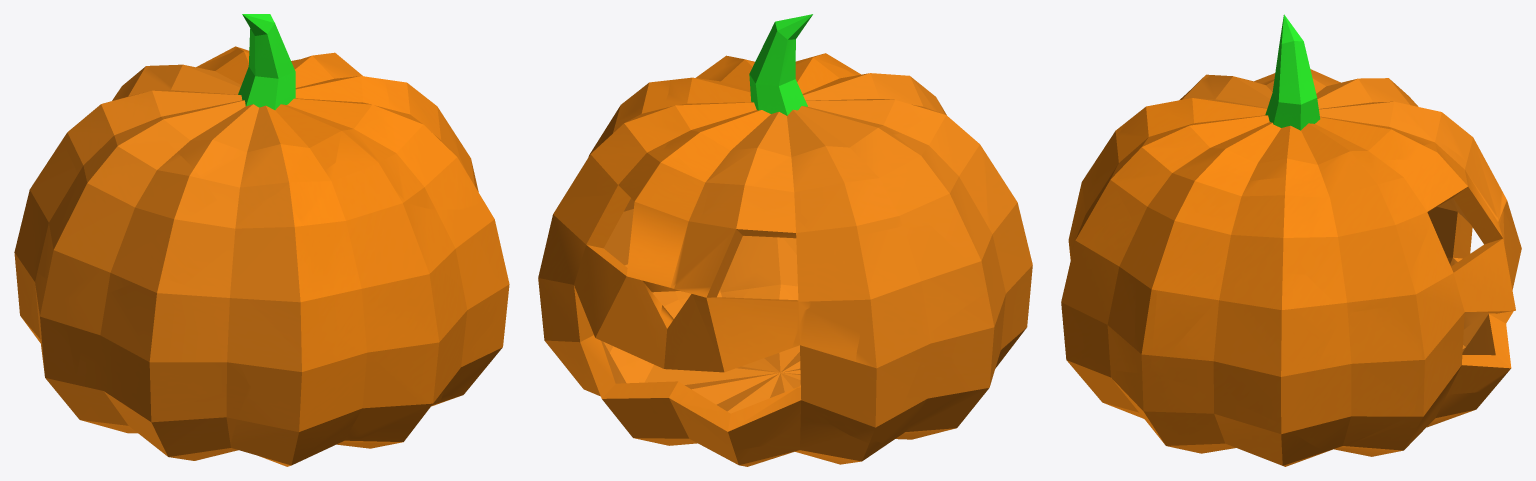
File: Abobora_01_Root.fbx
3 views of the same model, side by side, from view 1: azimuth 30°, elevation 25°; view 2: azimuth 150°, elevation 25°; view 3: azimuth 270°, elevation 25° (orthographic). The views are drawn at different scales.
Parts seen in each view (by area): view 1: Abobora_01_frag_020, Abobora_01_frag_014, Abobora_01_frag_036, Abobora_01_frag_041, Abobora_01_frag_030, Abobora_01_frag_009, Abobora_01_frag_056, Abobora_01_frag_049, Abobora_01_frag_016, Abobora_01_frag_037, Abobora_01_frag_054, Abobora_01_frag_055 (+13 smaller); view 2: Abobora_01_frag_026, Abobora_01_frag_054, Abobora_01_frag_006, Abobora_01_frag_050, Abobora_01_frag_028, Abobora_01_frag_025, Abobora_01_frag_041, Abobora_01_frag_031, Abobora_01_frag_042, Abobora_01_frag_005, Abobora_01_frag_009, Abobora_01_frag_045 (+19 smaller); view 3: Abobora_01_frag_033, Abobora_01_frag_048, Abobora_01_frag_043, Abobora_01_frag_016, Abobora_01_frag_056, Abobora_01_frag_015, Abobora_01_frag_031, Abobora_01_frag_028, Abobora_01_frag_040, Abobora_01_frag_023, Abobora_01_frag_034, Abobora_01_frag_009 (+17 smaller).
Boxes of the visible parts, x1,y1,x2,y2 form: Abobora_01_frag_020: (212,193,347,394); Abobora_01_frag_014: (63,277,249,411); Abobora_01_frag_036: (282,291,455,427); Abobora_01_frag_041: (49,136,217,294); Abobora_01_frag_030: (279,162,413,323); Abobora_01_frag_009: (164,105,335,213); Abobora_01_frag_056: (406,203,506,359); Abobora_01_frag_049: (76,351,241,460); Abobora_01_frag_016: (340,112,483,209); Abobora_01_frag_037: (61,201,239,298); Abobora_01_frag_054: (62,67,195,187); Abobora_01_frag_055: (223,386,363,466); Abobora_01_frag_026: (810,223,987,333); Abobora_01_frag_054: (748,123,927,238); Abobora_01_frag_006: (609,151,709,336); Abobora_01_frag_050: (636,287,803,372); Abobora_01_frag_028: (662,91,833,185); Abobora_01_frag_025: (661,180,818,322); Abobora_01_frag_041: (892,112,992,291); Abobora_01_frag_031: (543,195,640,356); Abobora_01_frag_042: (875,289,999,443); Abobora_01_frag_005: (827,329,928,443); Abobora_01_frag_009: (795,62,939,134); Abobora_01_frag_045: (606,381,769,466); Abobora_01_frag_033: (1158,273,1343,423); Abobora_01_frag_048: (1305,149,1430,313); Abobora_01_frag_043: (1284,306,1421,451); Abobora_01_frag_016: (1114,132,1226,269); Abobora_01_frag_056: (1066,186,1145,373); Abobora_01_frag_015: (1209,177,1315,273); Abobora_01_frag_031: (1394,223,1515,339); Abobora_01_frag_028: (1257,88,1437,160); Abobora_01_frag_040: (1160,376,1328,466); Abobora_01_frag_023: (1150,241,1245,374); Abobora_01_frag_034: (1204,126,1341,181); Abobora_01_frag_009: (1145,75,1274,132).
Bounding box in the file's own units: 31.37 × 27.55 × 30.24.
